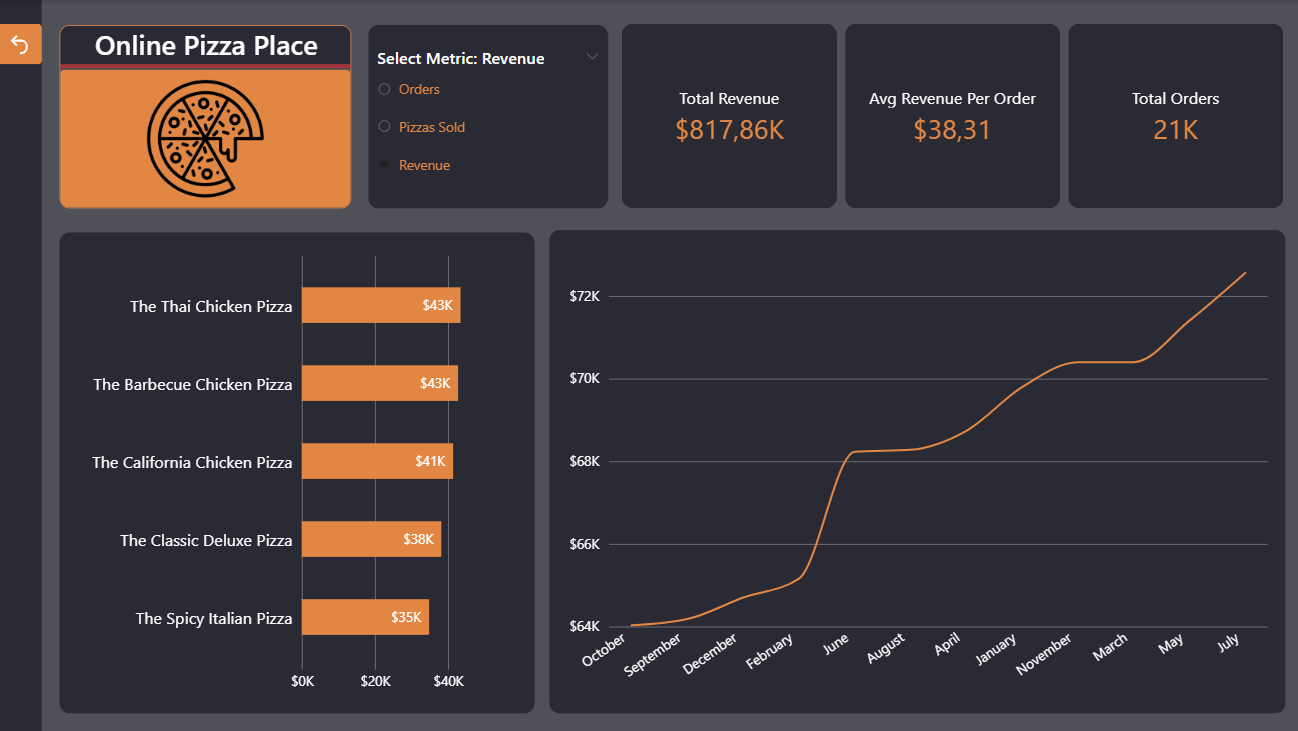

This screenshot's page, from the dashboard's own definition file:
{"tool":"powerbi","page":{"name":"Exec Dashboard","canvas":[1280,720],"ordinal":0},"visuals":[{"type":"slicer","fields":{"Values":["_Metric Selection.Select Metric"]},"box":[365,25,235,180],"z":0},{"type":"lineChart","fields":{"Category":["orders.date.Variation.Date Hierarchy.Month","orders.date.Variation.Date Hierarchy.Day","orders.Time Slot"],"Y":["_Measures.Total Revenue"]},"box":[542,226,722,474],"z":1000},{"type":"clusteredBarChart","fields":{"Category":["pizza_types.name"],"Y":["_Measures.Total Revenue"]},"box":[61.7,228.3,466.7,471.7],"z":2000},{"type":"cardVisual","fields":{"Data":["_Measures.Total Revenue","_Measures.Avg Revenue Per Order","_Measures.Total Orders"]},"box":[613.3,23.3,650,181.7],"z":3000},{"type":"shape","box":[0,0,44,720],"z":4000},{"type":"actionButton","box":[0,22.9,44.3,40],"z":5000},{"type":"image","title":"Online Pizza Place","box":[61.7,25,286.7,180],"z":6000}]}

Visuals, with their boxes in screenshot pixels (x1, y1, x2, y2), scaled from the page's 1280x720 canvas onto the 1298x731 screenshot:
slicer - _Metric Selection.Select Metric: <region>370, 25, 608, 208</region>
lineChart - orders.date.Variation.Date Hierarchy.Month x orders.date.Variation.Date Hierarchy.Day: <region>550, 229, 1282, 711</region>
clusteredBarChart - pizza_types.name x _Measures.Total Revenue: <region>63, 232, 536, 711</region>
cardVisual - _Measures.Total Revenue x _Measures.Avg Revenue Per Order: <region>622, 24, 1281, 208</region>
shape: <region>0, 0, 45, 730</region>
actionButton: <region>0, 23, 45, 64</region>
"Online Pizza Place" image: <region>63, 25, 353, 208</region>
